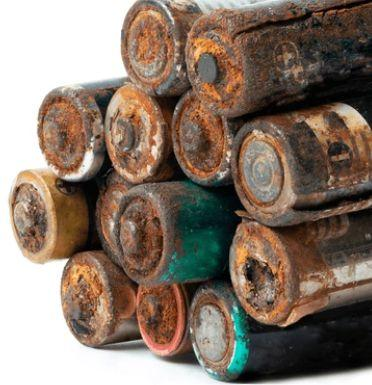battery: (181, 0, 369, 120), (231, 95, 372, 225), (230, 205, 369, 327), (103, 179, 241, 287), (120, 1, 209, 98), (60, 251, 142, 348), (9, 169, 90, 264), (36, 83, 112, 182), (103, 84, 178, 184), (186, 278, 253, 380), (171, 88, 236, 186), (95, 175, 145, 272), (135, 278, 195, 357)
